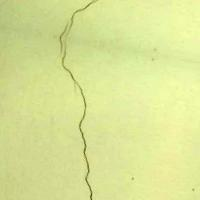crack: (42, 0, 116, 199)
